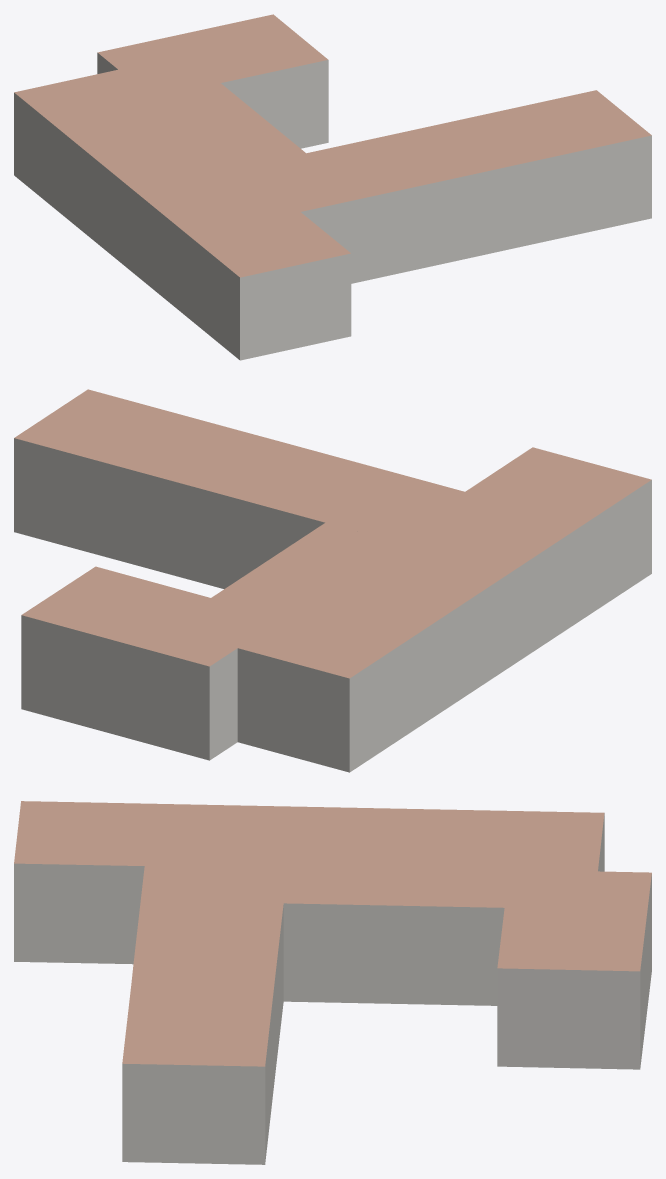
File: gridID_111.dae
3 views of the same model, one above another, from view 1: azimuth 30°, elevation 25°; view 2: azimuth 150°, elevation 25°; view 3: azimuth 270°, elevation 25° (orthographic). The views are drawn at different scales.
Visible parts, largest first — view 1: model_gridID_111_r6179511_001, model_gridID_111_r6179512, model_gridID_111_r6179512_001, model_gridID_111_r6179511; view 2: model_gridID_111_r6179511_001, model_gridID_111_r6179511, model_gridID_111_r6179512, model_gridID_111_r6179512_001; view 3: model_gridID_111_r6179511_001, model_gridID_111_r6179511, model_gridID_111_r6179512, model_gridID_111_r6179512_001.
Part boxes in pixels (bbox=[...]): model_gridID_111_r6179511_001: bbox=[14, 69, 351, 360]; model_gridID_111_r6179512: bbox=[421, 90, 651, 256]; model_gridID_111_r6179512_001: bbox=[245, 128, 476, 283]; model_gridID_111_r6179511: bbox=[97, 14, 328, 148]; model_gridID_111_r6179511_001: bbox=[211, 447, 651, 772]; model_gridID_111_r6179511: bbox=[21, 566, 283, 760]; model_gridID_111_r6179512: bbox=[14, 389, 275, 583]; model_gridID_111_r6179512_001: bbox=[202, 440, 464, 588]; model_gridID_111_r6179511_001: bbox=[14, 801, 604, 1005]; model_gridID_111_r6179511: bbox=[497, 869, 651, 1069]; model_gridID_111_r6179512: bbox=[122, 965, 276, 1164]; model_gridID_111_r6179512_001: bbox=[133, 866, 287, 1063].
Bounding box in the file's own units: 43.47 × 44.14 × 7.5.
